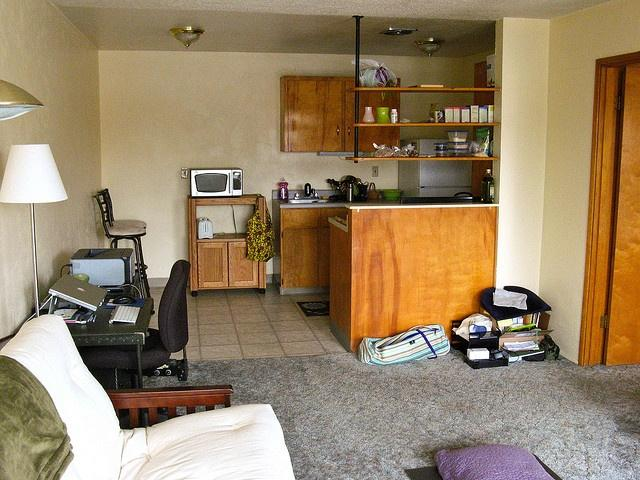Kursi: (139, 259, 189, 381)
Lemari: (278, 74, 401, 153)
